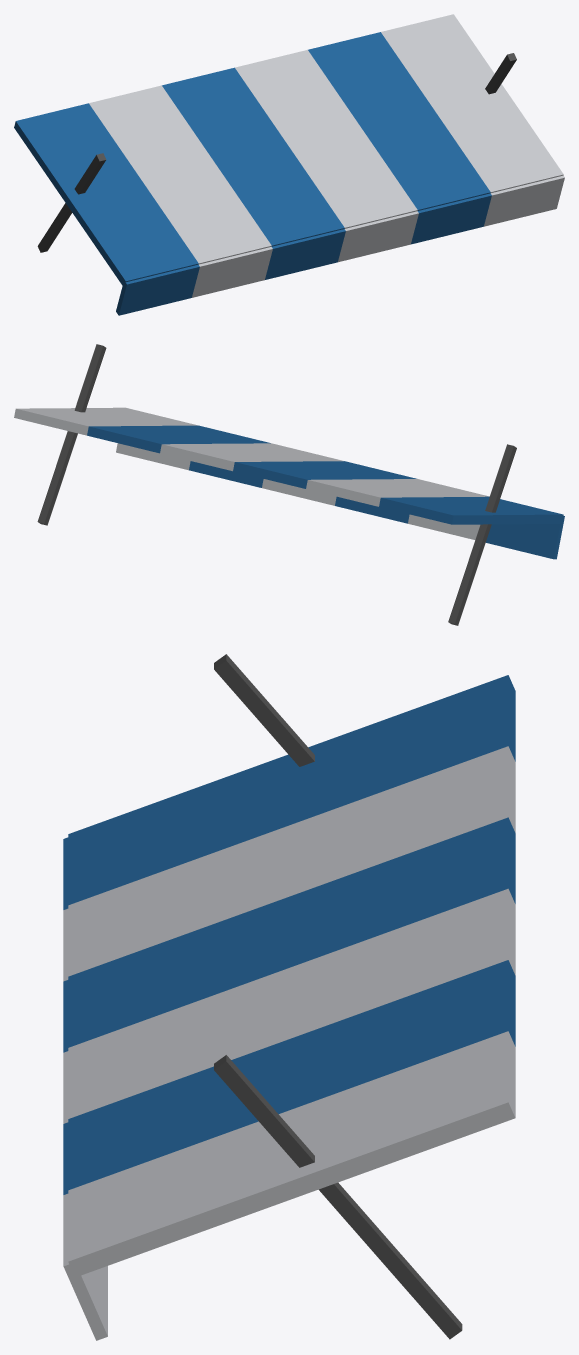
The model's file is awning_blue.glb.
3 views of the same model, one above another, from view 1: azimuth 30°, elevation 25°; view 2: azimuth 150°, elevation 25°; view 3: azimuth 270°, elevation 25° (orthographic). The views are drawn at different scales.
Parts seen in each view (by area): view 1: awning_blue; view 2: awning_blue; view 3: awning_blue.
Boxes of the visible parts, box(x1,y1,x2,y2) form: awning_blue: box(14, 14, 564, 315); awning_blue: box(14, 344, 564, 625); awning_blue: box(63, 654, 515, 1340).
Size of the model in its own units: 3.2 by 0.9711 by 1.43.
